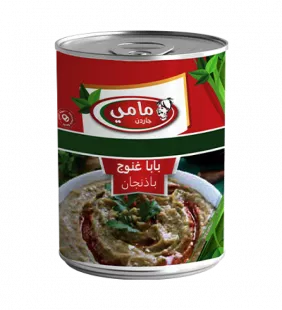MAMI GARDEN: (45, 20, 237, 284)
